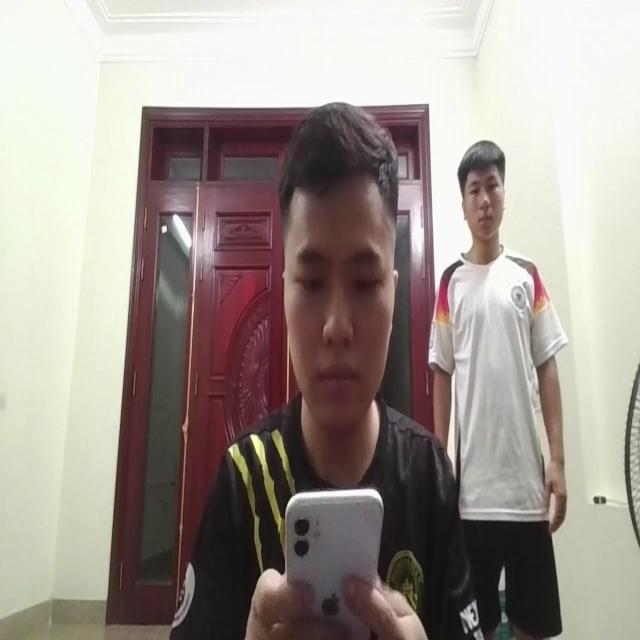extra_person: (426, 125, 580, 623)
phone: (277, 490, 394, 635)
student: (241, 88, 436, 486)
